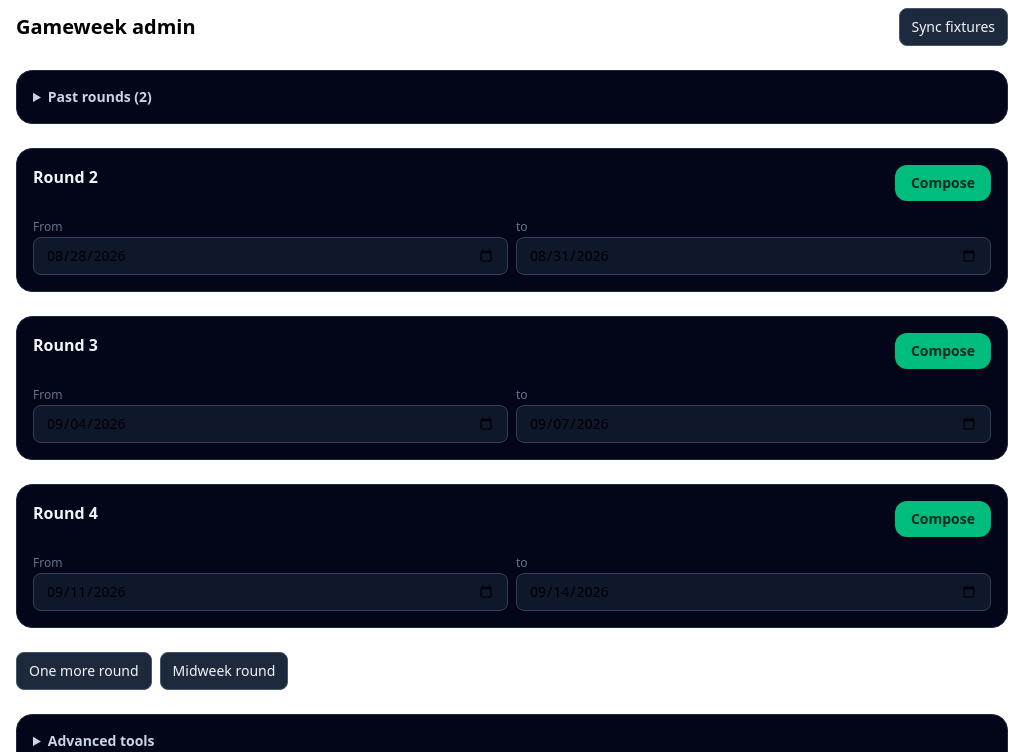
preparing the rounds ahead › offers the next three rounds, and one more on demand
Expected: the heading "Past rounds (2)" is shown, [48, 87, 152, 106]
Expected: the heading "Round 2" is shown, [33, 165, 98, 189]
What coordinates should you click on to do the following:
click the button "One more round"
I would click on:
 (84, 671)
Its box is [16, 652, 152, 690].
(page scrolled)
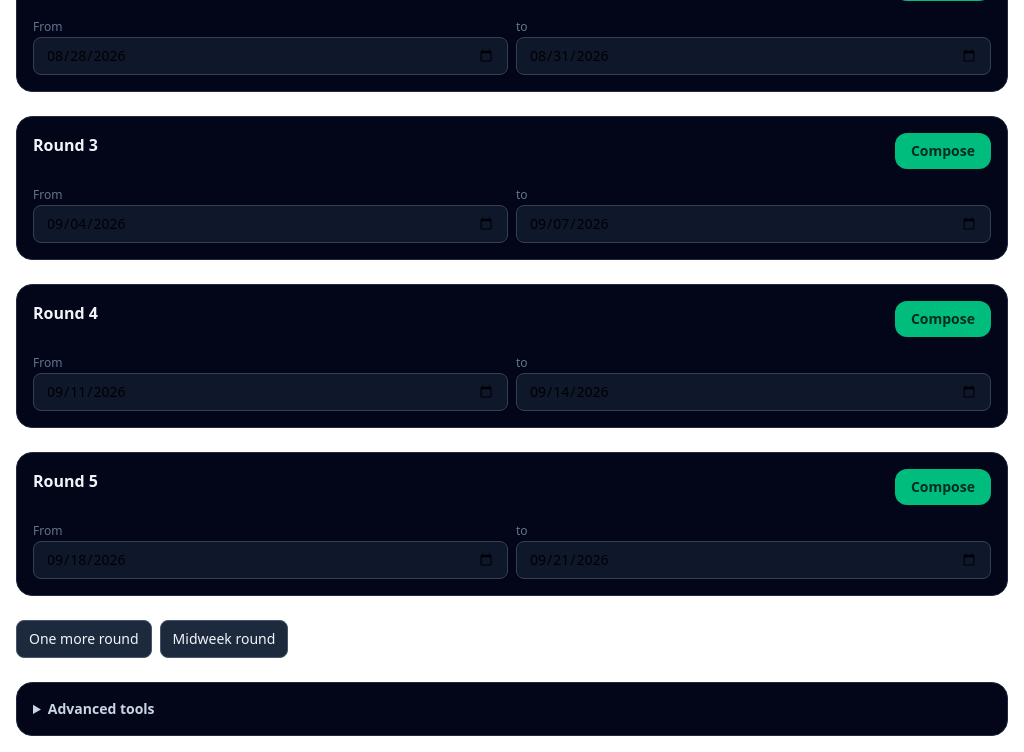
Result: the heading "Round 5" is shown at [33, 469, 98, 493]
and a European week is one click away
What coordinates should you click on to do the following:
click the button "Midweek round"
I would click on:
 (224, 639)
Its box is [160, 620, 288, 658].
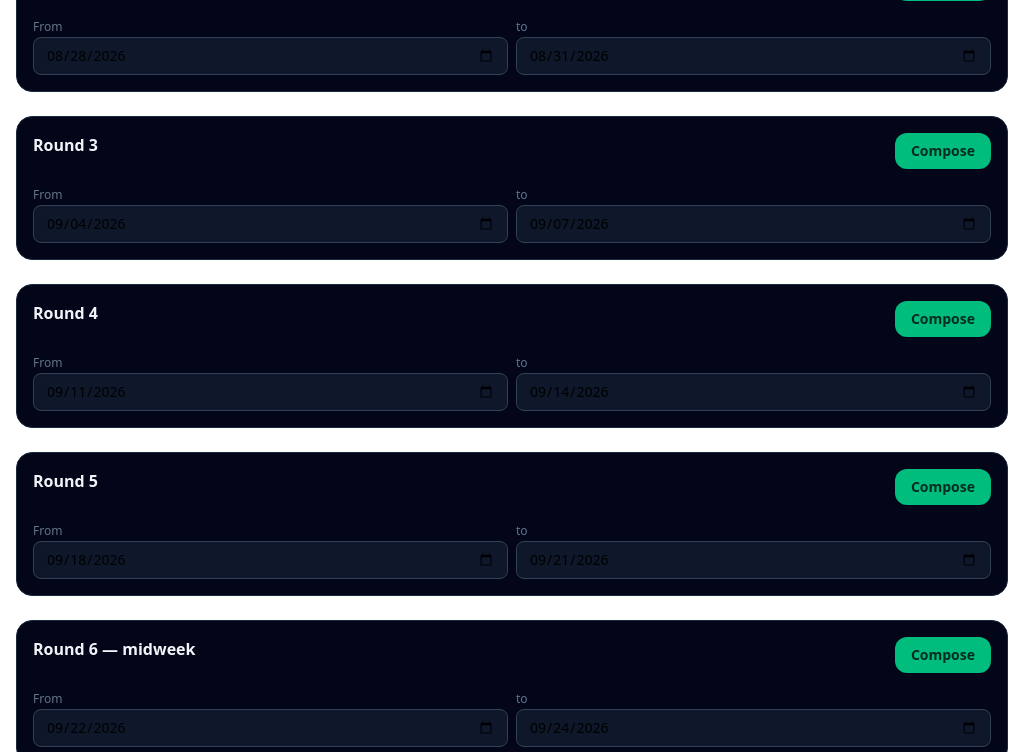
Result: the heading "Round 6 — midweek" is shown at [33, 637, 196, 661]
